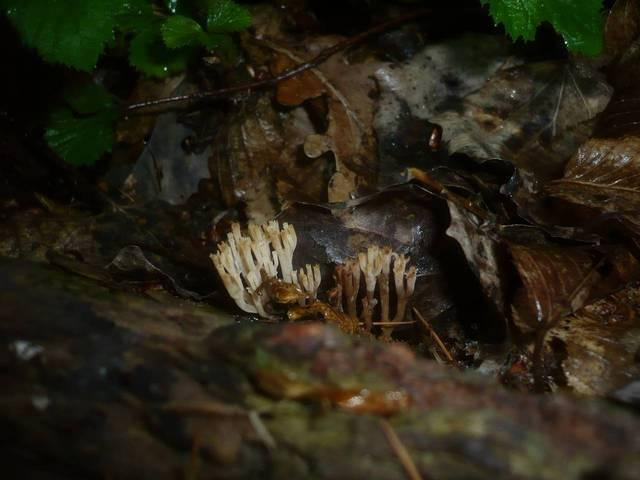edible_mushroom: (208, 218, 322, 319), (330, 243, 418, 338)
